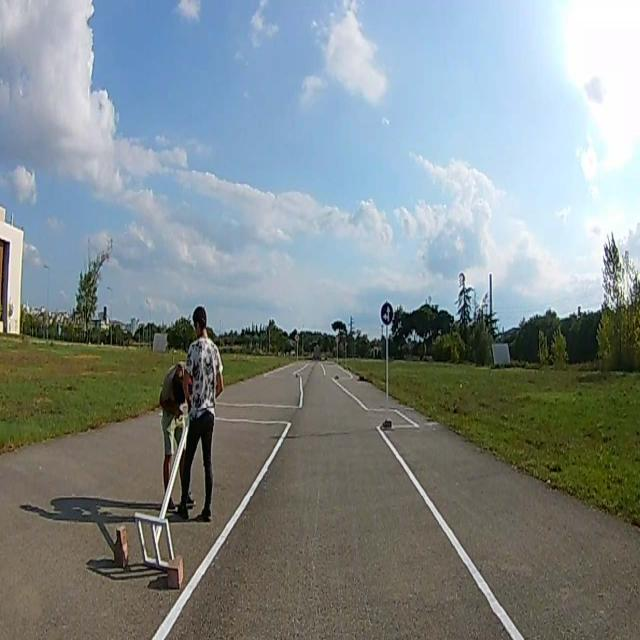ilerisol: (381, 300, 394, 326)
